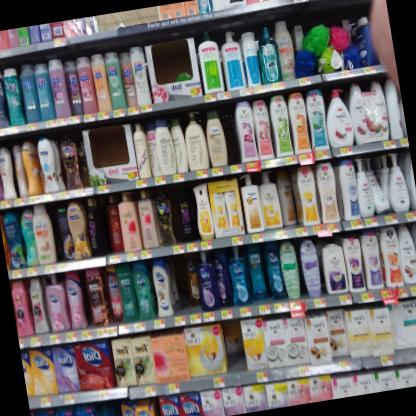empty_space: (174, 260, 194, 318), (222, 110, 241, 168)
